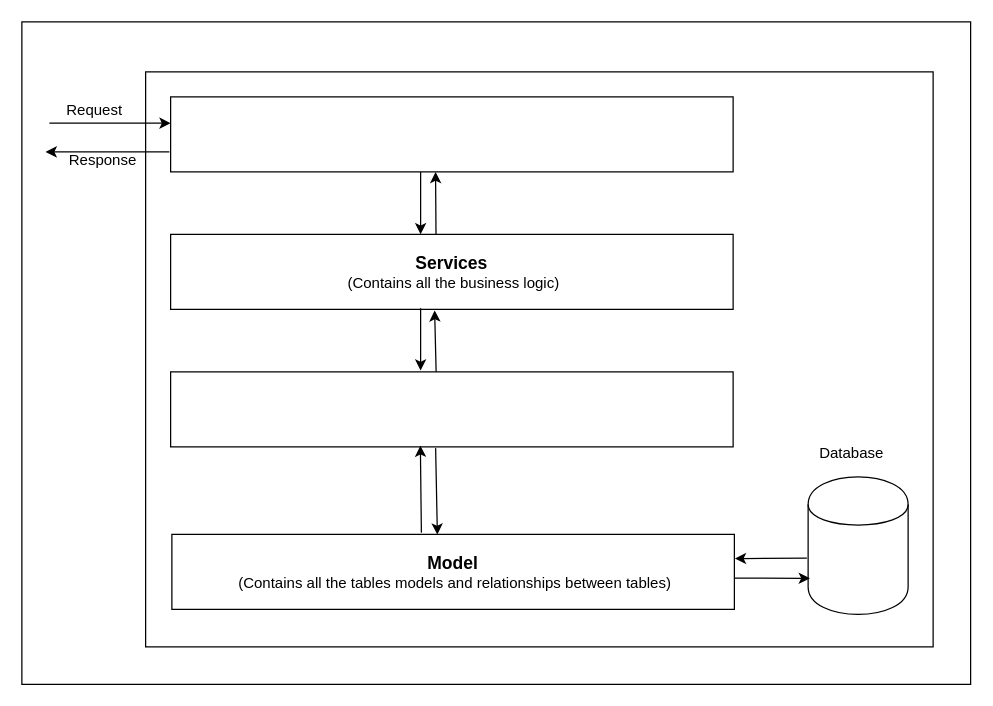
This 993x706 diagram has some shape labels left out. Each missing label, with the centre of its shape:
"Entry Point (Contains permission, validations etc)" goes at (x=451, y=134).
"Repository (Contains all the SQL query)" goes at (x=451, y=409).
